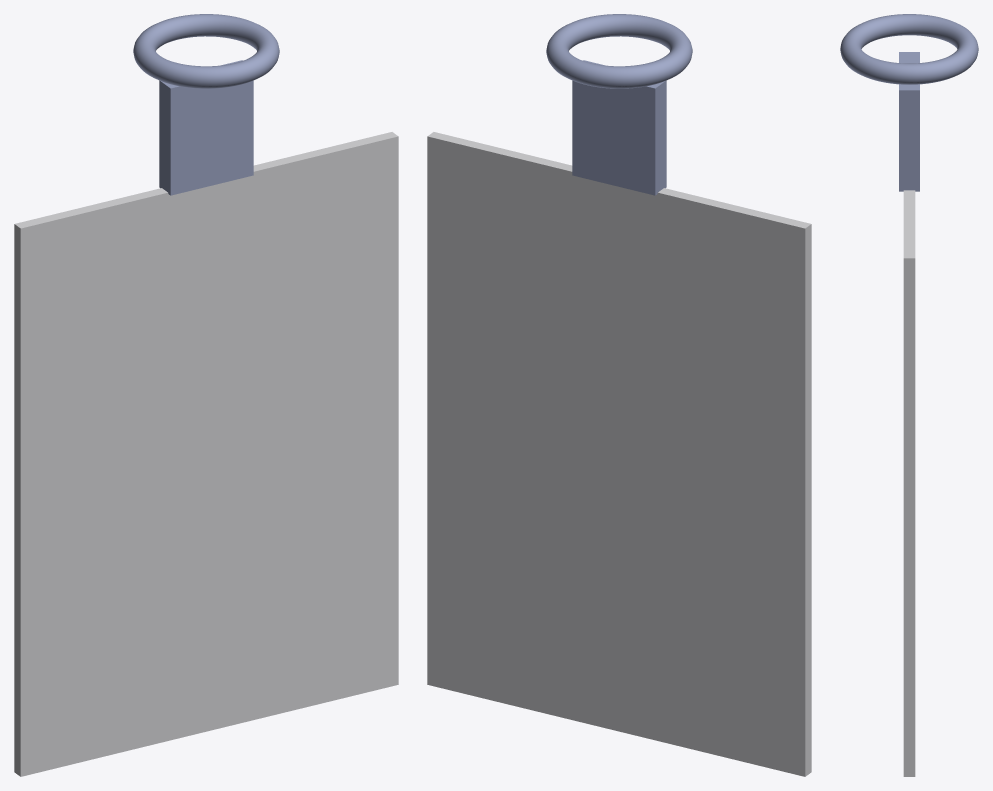
Rendered from card.glb.
3 views of the same model, side by side, from view 1: azimuth 30°, elevation 25°; view 2: azimuth 150°, elevation 25°; view 3: azimuth 270°, elevation 25° (orthographic). The views are drawn at different scales.
Parts seen in each view (by area): view 1: card, clamp, clip; view 2: card, clamp, clip; view 3: card, clip, clamp.
Boxes of the visible parts, x1=… form: card: x1=14, y1=132, x2=398, y2=776; clamp: x1=159, y1=60, x2=253, y2=195; clip: x1=133, y1=14, x2=279, y2=88; card: x1=427, y1=132, x2=811, y2=776; clamp: x1=572, y1=60, x2=666, y2=195; clip: x1=546, y1=14, x2=692, y2=88; card: x1=903, y1=190, x2=915, y2=776; clip: x1=840, y1=14, x2=978, y2=84; clamp: x1=899, y1=52, x2=919, y2=191.
Size of the model in its own units: 1.55 by 2.7 by 0.52.
